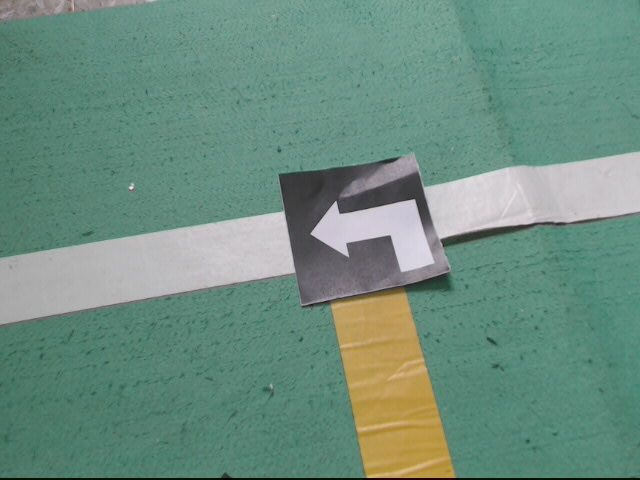left: (278, 151, 454, 310)
